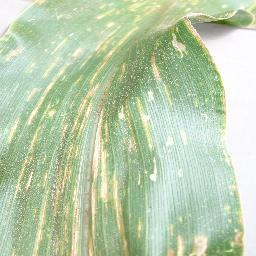Gray_Leaf_Spot: (49, 0, 159, 183), (34, 184, 129, 256), (160, 0, 256, 27), (222, 175, 251, 256), (215, 89, 235, 172), (167, 224, 210, 256), (24, 84, 47, 136), (15, 141, 32, 197), (33, 136, 50, 183), (190, 28, 215, 58), (170, 29, 190, 58), (9, 113, 23, 148), (0, 18, 15, 40), (178, 121, 189, 149), (5, 45, 23, 62), (159, 131, 174, 150), (27, 58, 37, 74), (175, 166, 185, 179), (137, 214, 142, 238)
